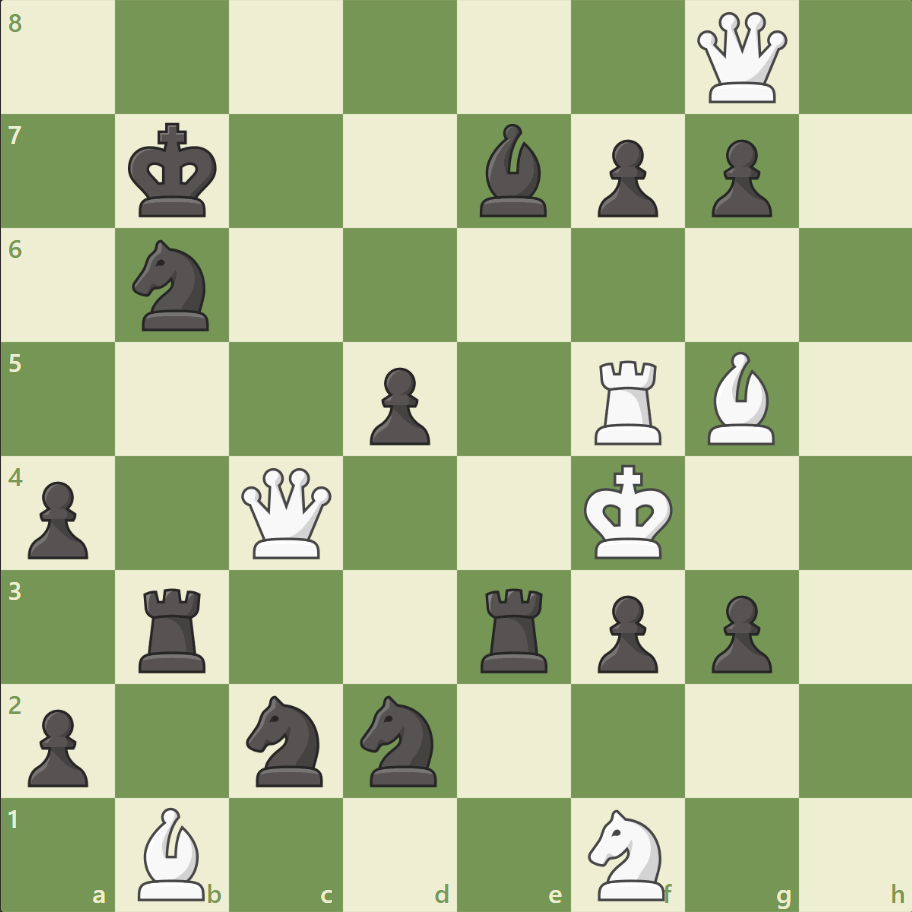B: (131, 801, 215, 904), (698, 347, 782, 449)
K: (579, 458, 679, 566)
N: (579, 802, 676, 904)
Q: (691, 9, 790, 108), (237, 463, 336, 562)
R: (587, 352, 670, 449)
b: (471, 120, 555, 222)
k: (124, 117, 224, 225)
n: (124, 234, 222, 337), (351, 688, 449, 791), (238, 688, 335, 791)
p: (701, 132, 776, 223), (20, 473, 95, 564), (701, 586, 776, 677), (20, 700, 95, 791), (588, 132, 662, 223), (361, 359, 435, 450), (588, 586, 662, 677)
r: (473, 579, 556, 676), (133, 579, 215, 676)
